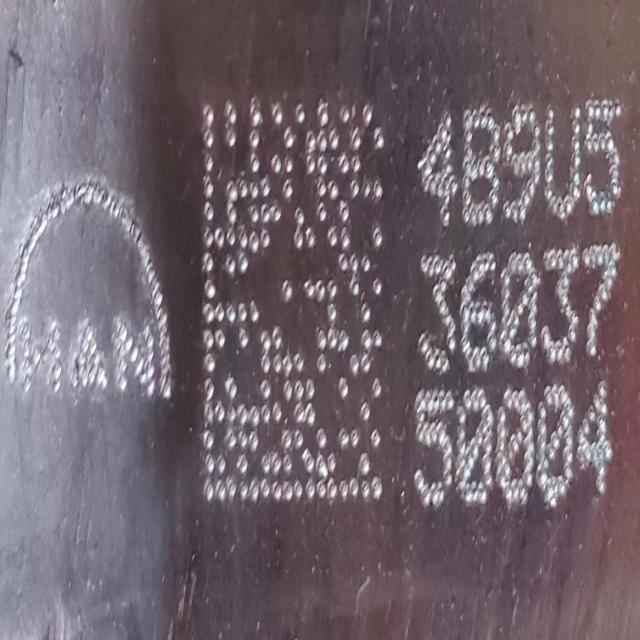dmc: (203, 105, 384, 501)
